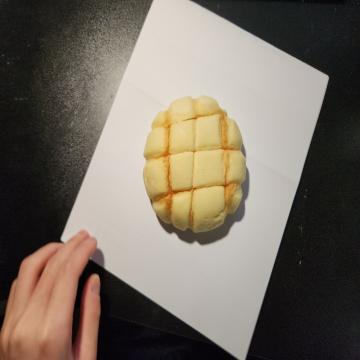melon_bread: (140, 95, 248, 236)
